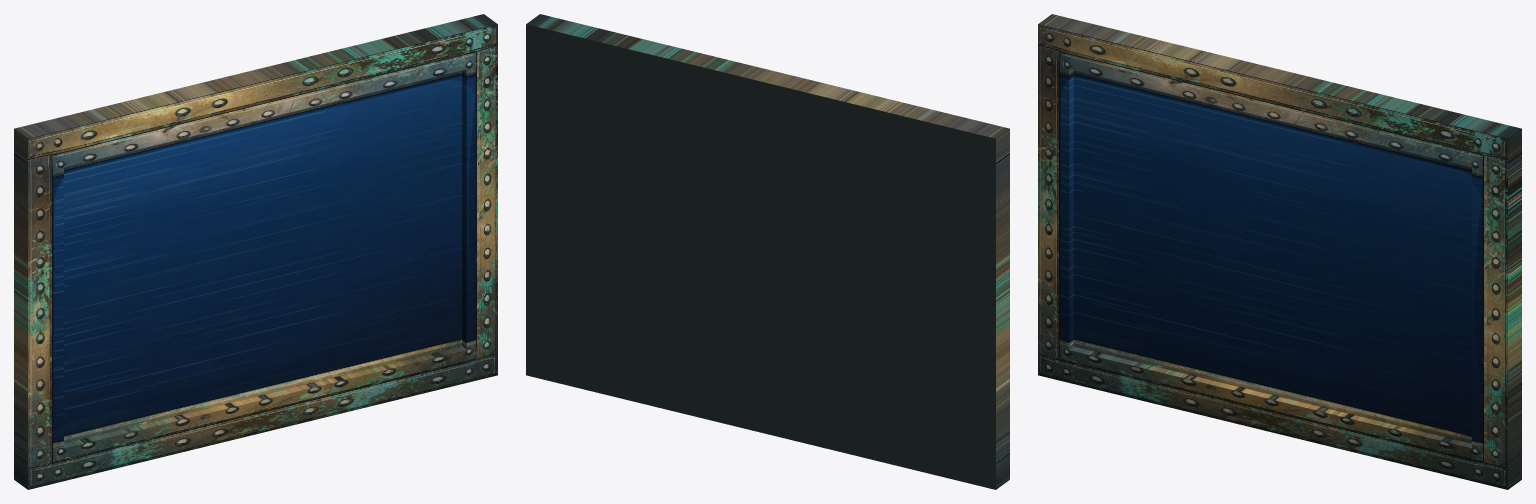
The model's file is panel_result.glb.
3 views of the same model, side by side, from view 1: azimuth 30°, elevation 25°; view 2: azimuth 150°, elevation 25°; view 3: azimuth 330°, elevation 25° (orthographic).
Parts seen in each view (by area): view 1: panel_result; view 2: panel_result; view 3: panel_result.
Boxes of the visible parts, x1=… form: panel_result: x1=14, y1=14, x2=497, y2=489; panel_result: x1=526, y1=14, x2=1009, y2=489; panel_result: x1=1038, y1=14, x2=1521, y2=489.
Size of the model in its own units: 0.7 by 0.5 by 0.042.
1 material, 1 textured.
